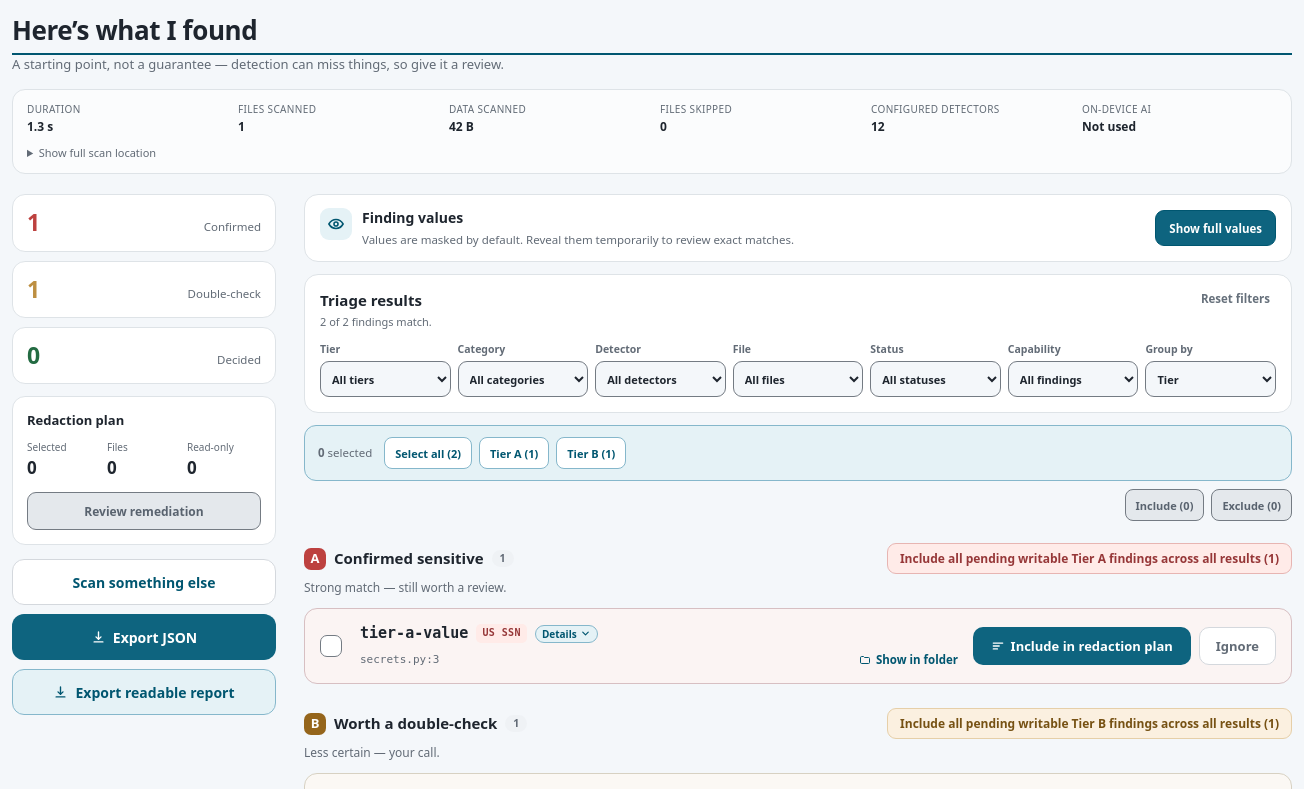
ResultsScreen › uses summary cards and filters to isolate results in one action
Click the button "1 Confirmed" at (232, 227), box [12,194,276,252]
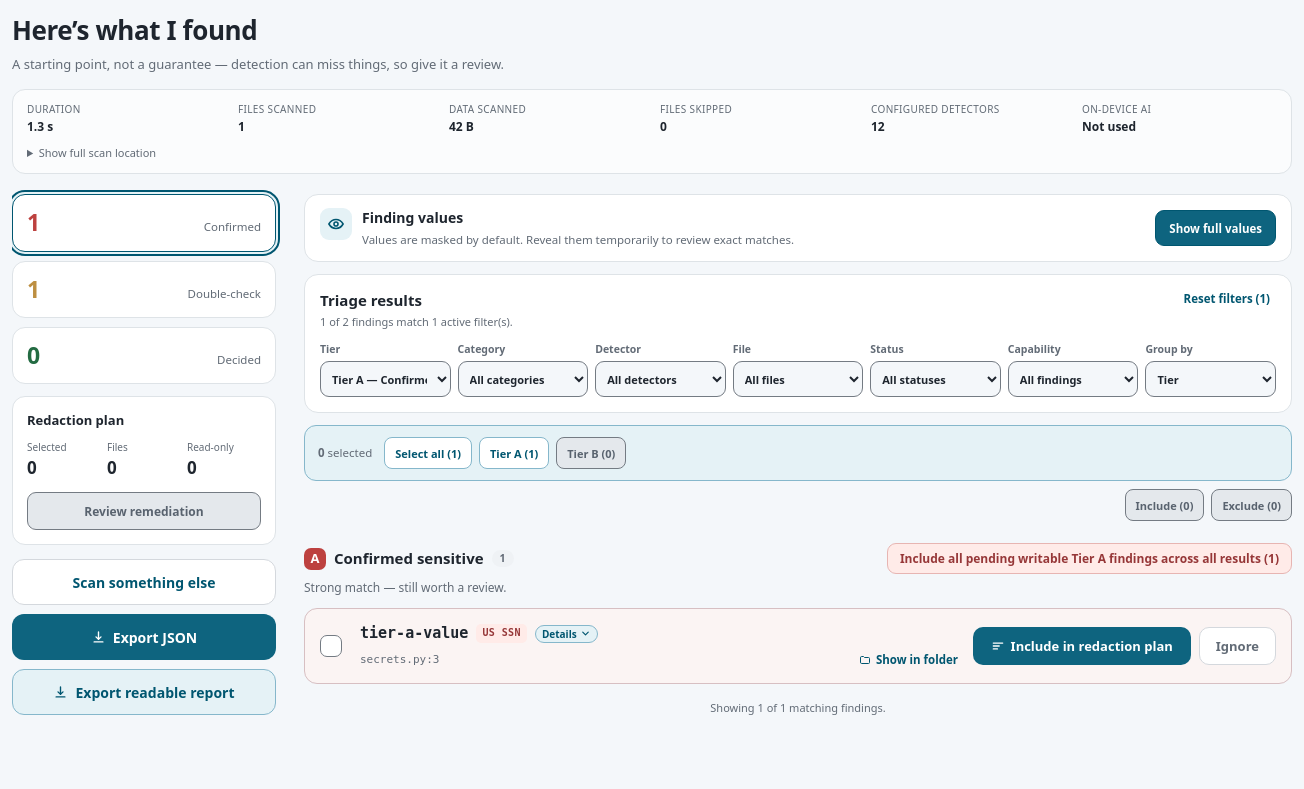
Expected: the text "tier-a-value" is shown, [360,623,468,644]
Result: the dropdown labelled "Tier" shows "Tier A — Confirmed" at [320,361,451,397]
